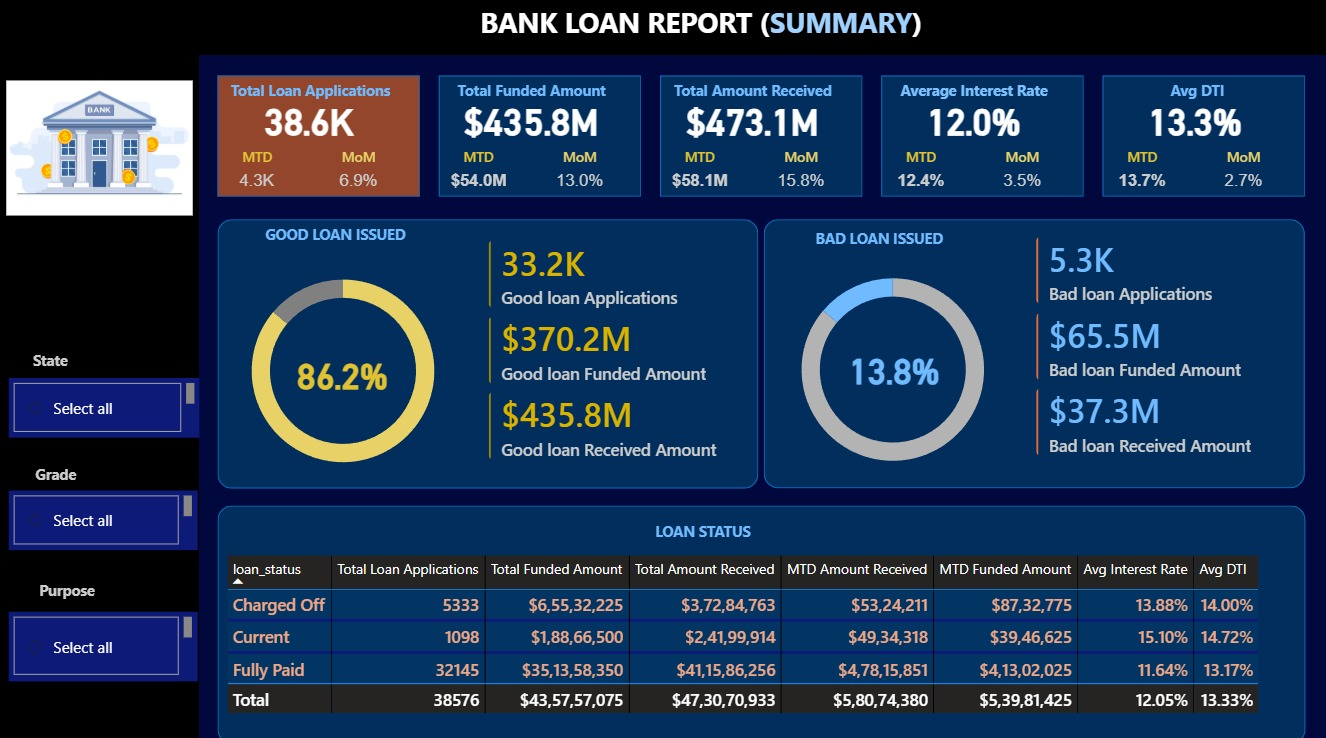

Layout of this report page (visuals, bound fields, positions):
{"tool":"powerbi","page":{"name":"first page","canvas":[1280,720],"ordinal":0},"visuals":[{"type":"shape","box":[0,0,1280.3,55],"z":0},{"type":"shape","box":[0,54.9,192,665.5],"z":1000},{"type":"textbox","box":[458.3,0,458.3,50.8],"z":2000},{"type":"shape","box":[209.5,75.4,195.5,117],"z":2000,"group":"g1"},{"type":"shape","box":[423.1,75.4,195.5,117],"z":2000,"group":"g2"},{"type":"shape","box":[636.7,75.4,195.5,117],"z":2000,"group":"g3"},{"type":"shape","box":[850.3,75.4,195.5,117],"z":2000,"group":"g4"},{"type":"shape","box":[1063.9,75.4,195.5,117],"z":2000,"group":"g5"},{"type":"group","id":"g1","title":"Group 1","box":[192.7,75.4,212.2,117.3],"z":3000},{"type":"advanceCardE03760C5AB684758B56AA29F9E6C257B","fields":{"mainMeasure":["bank_loan_data.Total Loan Applications"]},"box":[192.7,75.4,212.2,90.8],"z":4000,"group":"g1"},{"type":"group","id":"g2","title":"Group 1","box":[406.3,75.4,212.2,117.3],"z":4000},{"type":"advanceCardE03760C5AB684758B56AA29F9E6C257B","fields":{"mainMeasure":["bank_loan_data.Total Funded Amount"]},"box":[406.3,75.4,212.2,90.8],"z":4000,"group":"g2"},{"type":"advanceCardE03760C5AB684758B56AA29F9E6C257B","fields":{"mainMeasure":["bank_loan_data.Total Amount Received"]},"box":[619.9,75.4,212.2,90.8],"z":4000,"group":"g3"},{"type":"advanceCardE03760C5AB684758B56AA29F9E6C257B","fields":{"mainMeasure":["bank_loan_data.Avg Interest Rate"]},"box":[833.5,75.4,212.2,90.8],"z":4000,"group":"g4"},{"type":"advanceCardE03760C5AB684758B56AA29F9E6C257B","fields":{"mainMeasure":["bank_loan_data.Avg DTI"]},"box":[1047.1,75.4,212.2,90.8],"z":4000,"group":"g5"},{"type":"advanceCardE03760C5AB684758B56AA29F9E6C257B","fields":{"mainMeasure":["bank_loan_data.Bad Loan Percentage"]},"box":[795.8,335.9,133.7,52],"z":4000,"group":"g7"},{"type":"advanceCardE03760C5AB684758B56AA29F9E6C257B","fields":{"mainMeasure":["bank_loan_data.Good Loan Percentage"]},"box":[224.8,340.7,212.2,51.7],"z":4000,"group":"g6"},{"type":"textbox","box":[216.4,75.4,164.7,36.3],"z":5000,"group":"g1"},{"type":"textbox","box":[430,75.4,164.7,36.3],"z":5000,"group":"g2"},{"type":"group","id":"g3","title":"Group 1","box":[619.9,75.4,212.2,117.3],"z":5000},{"type":"textbox","box":[643.6,75.4,164.7,36.3],"z":5000,"group":"g3"},{"type":"textbox","box":[857.2,75.4,164.7,36.3],"z":5000,"group":"g4"},{"type":"textbox","box":[1070.8,75.4,164.7,36.3],"z":5000,"group":"g5"},{"type":"group","id":"g4","title":"Group 1","box":[833.5,75.4,212.2,117.3],"z":6000},{"type":"advanceCardE03760C5AB684758B56AA29F9E6C257B","title":"MTD","fields":{"mainMeasure":["bank_loan_data.MTD Loan Applications"]},"box":[209.5,143.8,76.8,48.9],"z":6000,"group":"g1"},{"type":"advanceCardE03760C5AB684758B56AA29F9E6C257B","title":"MTD","fields":{"mainMeasure":["bank_loan_data.MTD Funded Amount"]},"box":[423.1,143.8,76.8,48.9],"z":6000,"group":"g2"},{"type":"advanceCardE03760C5AB684758B56AA29F9E6C257B","title":"MTD","fields":{"mainMeasure":["bank_loan_data.MTD Amount Received"]},"box":[636.7,143.8,76.8,48.9],"z":6000,"group":"g3"},{"type":"advanceCardE03760C5AB684758B56AA29F9E6C257B","title":"MTD","fields":{"mainMeasure":["bank_loan_data.MTD Avg Interest RAte"]},"box":[850.3,143.8,76.8,48.9],"z":6000,"group":"g4"},{"type":"advanceCardE03760C5AB684758B56AA29F9E6C257B","title":"MTD","fields":{"mainMeasure":["bank_loan_data.MTD Avg DTI"]},"box":[1063.9,143.8,76.8,48.9],"z":6000,"group":"g5"},{"type":"group","id":"g5","title":"Group 1","box":[1047.1,75.4,212.2,117.3],"z":7000},{"type":"advanceCardE03760C5AB684758B56AA29F9E6C257B","title":"MoM","fields":{"mainMeasure":["bank_loan_data.MoM Loan Applications"]},"box":[307.2,143.8,76.8,48.9],"z":7000,"group":"g1"},{"type":"advanceCardE03760C5AB684758B56AA29F9E6C257B","title":"MoM","fields":{"mainMeasure":["bank_loan_data.MoM Total Funded Amount"]},"box":[520.8,143.8,76.8,48.9],"z":7000,"group":"g2"},{"type":"advanceCardE03760C5AB684758B56AA29F9E6C257B","title":"MoM","fields":{"mainMeasure":["bank_loan_data.MoM Total Amount Received"]},"box":[734.4,143.8,76.8,48.9],"z":7000,"group":"g3"},{"type":"advanceCardE03760C5AB684758B56AA29F9E6C257B","title":"MoM","fields":{"mainMeasure":["bank_loan_data.MoM Avg Interest Rate"]},"box":[948,143.8,76.8,48.9],"z":7000,"group":"g4"},{"type":"advanceCardE03760C5AB684758B56AA29F9E6C257B","title":"MoM","fields":{"mainMeasure":["bank_loan_data.MoM Avg DTI"]},"box":[1161.6,143.8,76.8,48.9],"z":7000,"group":"g5"},{"type":"shape","box":[209.4,213.6,522,260],"z":8000},{"type":"textbox","box":[241.5,213.6,164.7,36.3],"z":9000},{"type":"shape","box":[737.2,213.6,522.2,259.7],"z":10000},{"type":"donutChart","fields":{"Category":["bank_loan_data.Good vs Bad loan"],"Y":["bank_loan_data.Total Loan Applications"]},"box":[206.6,244.3,249.9,230.4],"z":11000},{"type":"group","id":"g6","title":"Group 1","box":[224.8,340.7,212.2,51.7],"z":12000},{"type":"cardVisual","fields":{"Data":["bank_loan_data.Good loan Applications","bank_loan_data.Good loan Funded Amount","bank_loan_data.Good loan Received Amount"]},"box":[454.5,216.8,276.3,246.6],"z":13000},{"type":"donutChart","fields":{"Category":["bank_loan_data.Good vs Bad loan"],"Y":["bank_loan_data.Total Loan Applications"]},"box":[736.7,243.6,249.5,230.2],"z":14000},{"type":"textbox","box":[766.4,216.8,164.9,35.6],"z":15000},{"type":"group","id":"g7","title":"Group 1","box":[795.8,335.9,133.7,52],"z":16000},{"type":"cardVisual","fields":{"Data":["bank_loan_data.Bad loan Applications","bank_loan_data.Bad loan Funded Amount","bank_loan_data.Bad loan Received Amount"]},"box":[983.2,213.9,276.3,246.6],"z":17000},{"type":"shape","box":[209.4,490.1,1050.1,230.2],"z":18000},{"type":"tableEx","fields":{"Values":["bank_loan_data.loan_status","bank_loan_data.Total Loan Applications","bank_loan_data.Total Funded Amount","bank_loan_data.Total Amount Received","bank_loan_data.MTD Amount Received","bank_loan_data.MTD Funded Amount","bank_loan_data.Avg Interest Rate","bank_loan_data.Avg DTI"]},"box":[213.9,533.2,1035.2,173.8],"z":19000},{"type":"textbox","box":[251,500.5,851.1,32.7],"z":20000},{"type":"advancedSlicerVisual","fields":{"Values":["bank_loan_data.address_state"]},"box":[8.9,366.9,184.2,57.9],"z":21000},{"type":"textbox","box":[8.9,335.7,80.2,31.2],"z":22000},{"type":"advancedSlicerVisual","fields":{"Values":["bank_loan_data.grade"]},"box":[8.9,475.3,182.7,57.9],"z":23000},{"type":"textbox","box":[8.9,445.6,90.6,29.7],"z":24000},{"type":"advancedSlicerVisual","fields":{"Values":["bank_loan_data.purpose"]},"box":[8.9,592.6,182.7,66.8],"z":25000},{"type":"textbox","box":[19.3,557,90.6,35.6],"z":26000},{"type":"image","box":[5.6,69.8,180.1,149.4],"z":26001}]}

Visuals, with their boxes in screenshot pixels (x1, y1, x2, y2), scaled from the page's 1280x720 canvas onto the 1326x738 screenshot:
shape: 0, 0, 1325, 56
shape: 0, 56, 199, 737
textbox: 475, 0, 950, 52
shape: 217, 77, 420, 197
shape: 438, 77, 641, 197
shape: 660, 77, 862, 197
shape: 881, 77, 1083, 197
shape: 1102, 77, 1305, 197
"Group 1" group: 200, 77, 419, 198
advanceCardE03760C5AB684758B56AA29F9E6C257B - bank_loan_data.Total Loan Applications: 200, 77, 419, 170
"Group 1" group: 421, 77, 641, 198
advanceCardE03760C5AB684758B56AA29F9E6C257B - bank_loan_data.Total Funded Amount: 421, 77, 641, 170
advanceCardE03760C5AB684758B56AA29F9E6C257B - bank_loan_data.Total Amount Received: 642, 77, 862, 170
advanceCardE03760C5AB684758B56AA29F9E6C257B - bank_loan_data.Avg Interest Rate: 863, 77, 1083, 170
advanceCardE03760C5AB684758B56AA29F9E6C257B - bank_loan_data.Avg DTI: 1085, 77, 1305, 170
advanceCardE03760C5AB684758B56AA29F9E6C257B - bank_loan_data.Bad Loan Percentage: 824, 344, 963, 398
advanceCardE03760C5AB684758B56AA29F9E6C257B - bank_loan_data.Good Loan Percentage: 233, 349, 453, 402
textbox: 224, 77, 395, 114
textbox: 445, 77, 616, 114
"Group 1" group: 642, 77, 862, 198
textbox: 667, 77, 837, 114
textbox: 888, 77, 1059, 114
textbox: 1109, 77, 1280, 114
"Group 1" group: 863, 77, 1083, 198
"MTD" advanceCardE03760C5AB684758B56AA29F9E6C257B: 217, 147, 297, 198
"MTD" advanceCardE03760C5AB684758B56AA29F9E6C257B: 438, 147, 518, 198
"MTD" advanceCardE03760C5AB684758B56AA29F9E6C257B: 660, 147, 739, 198
"MTD" advanceCardE03760C5AB684758B56AA29F9E6C257B: 881, 147, 960, 198
"MTD" advanceCardE03760C5AB684758B56AA29F9E6C257B: 1102, 147, 1182, 198
"Group 1" group: 1085, 77, 1305, 198
"MoM" advanceCardE03760C5AB684758B56AA29F9E6C257B: 318, 147, 398, 198
"MoM" advanceCardE03760C5AB684758B56AA29F9E6C257B: 540, 147, 619, 198
"MoM" advanceCardE03760C5AB684758B56AA29F9E6C257B: 761, 147, 840, 198
"MoM" advanceCardE03760C5AB684758B56AA29F9E6C257B: 982, 147, 1062, 198
"MoM" advanceCardE03760C5AB684758B56AA29F9E6C257B: 1203, 147, 1283, 198
shape: 217, 219, 758, 485
textbox: 250, 219, 421, 256
shape: 764, 219, 1305, 485
donutChart - bank_loan_data.Good vs Bad loan x bank_loan_data.Total Loan Applications: 214, 250, 473, 487
"Group 1" group: 233, 349, 453, 402
cardVisual - bank_loan_data.Good loan Applications x bank_loan_data.Good loan Funded Amount: 471, 222, 757, 475
donutChart - bank_loan_data.Good vs Bad loan x bank_loan_data.Total Loan Applications: 763, 250, 1022, 486
textbox: 794, 222, 965, 259
"Group 1" group: 824, 344, 963, 398
cardVisual - bank_loan_data.Bad loan Applications x bank_loan_data.Bad loan Funded Amount: 1019, 219, 1305, 472
shape: 217, 502, 1305, 737
tableEx - bank_loan_data.loan_status x bank_loan_data.Total Loan Applications: 222, 547, 1294, 725
textbox: 260, 513, 1142, 547
advancedSlicerVisual - bank_loan_data.address_state: 9, 376, 200, 435
textbox: 9, 344, 92, 376
advancedSlicerVisual - bank_loan_data.grade: 9, 487, 198, 547
textbox: 9, 457, 103, 487
advancedSlicerVisual - bank_loan_data.purpose: 9, 607, 198, 676
textbox: 20, 571, 114, 607
image: 6, 72, 192, 225
